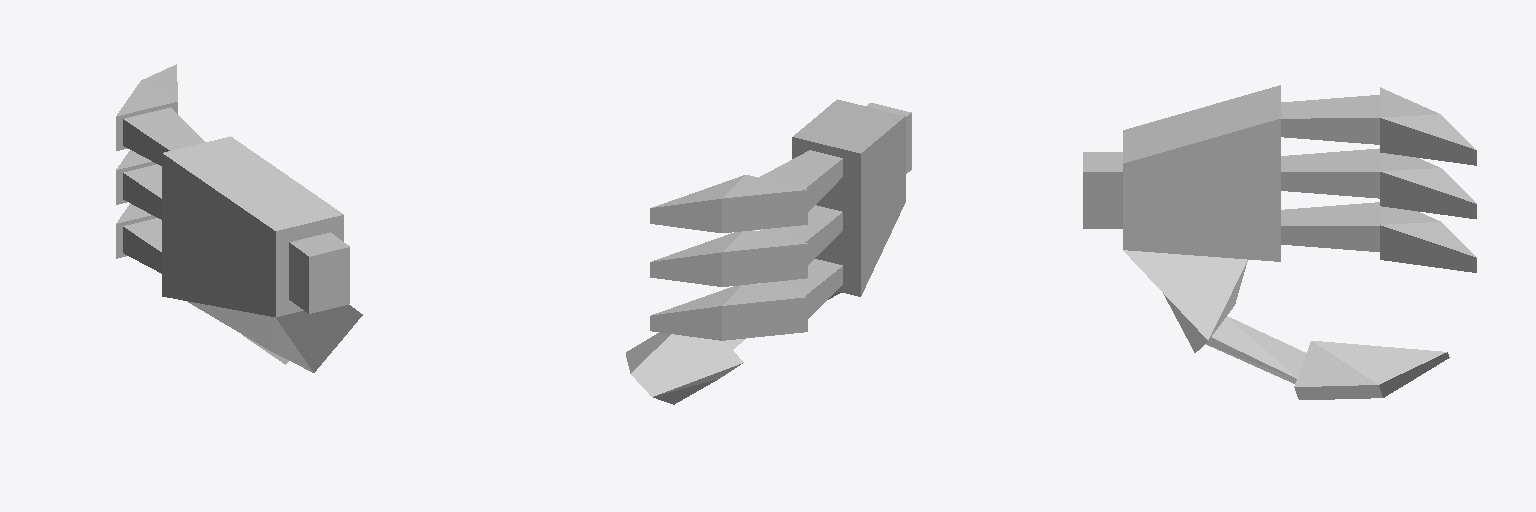
File: hand.obj
3 views of the same model, side by side, from view 1: azimuth 30°, elevation 25°; view 2: azimuth 150°, elevation 25°; view 3: azimuth 270°, elevation 25° (orthographic).
Visible parts, largest first — view 1: cube2; view 2: cube2; view 3: cube2.
Boxes of the visible parts, x1,y1,x2,y2 form: cube2: [116, 64, 362, 372]; cube2: [626, 99, 911, 404]; cube2: [1083, 85, 1476, 399].
Bounding box in the file's own units: 0.1089 × 0.1398 × 0.1991.